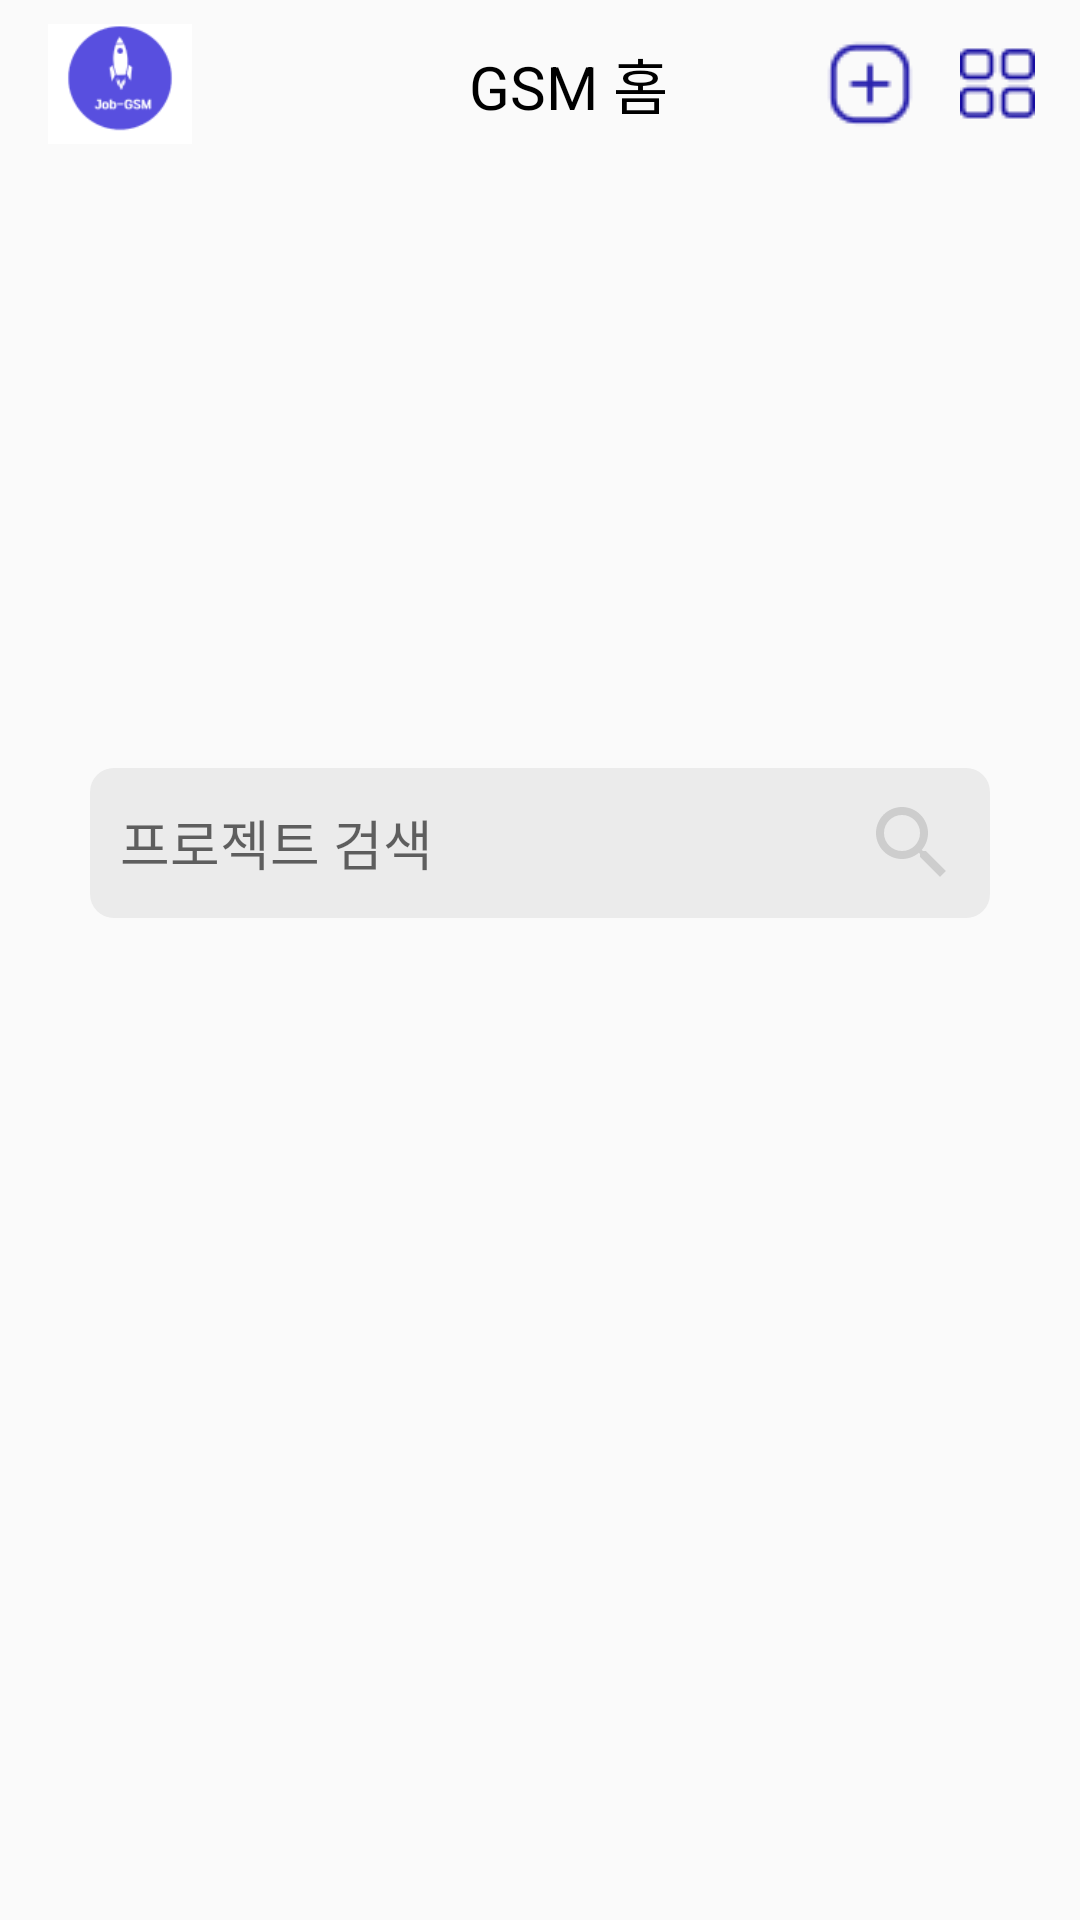

Where icons sit on this 1080 × 1920 app screen, as detection(x1, y1, x2, y2):
add project: detection(829, 43, 911, 124)
menu: detection(960, 48, 1035, 119)
